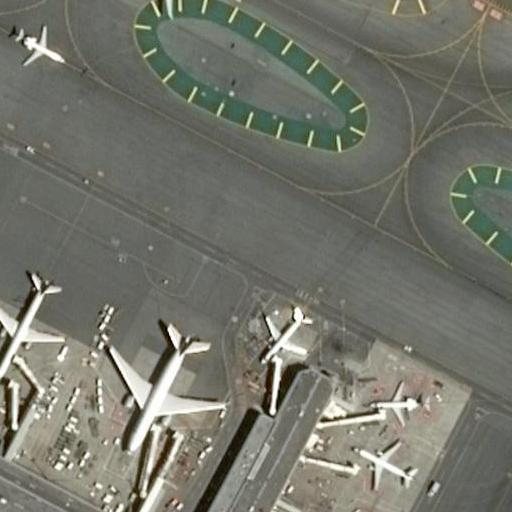Aircraft: (111, 317, 218, 445), (0, 274, 60, 381), (257, 304, 314, 373), (354, 438, 414, 491), (6, 21, 61, 70), (106, 0, 260, 16), (372, 378, 417, 430), (319, 506, 368, 512)
